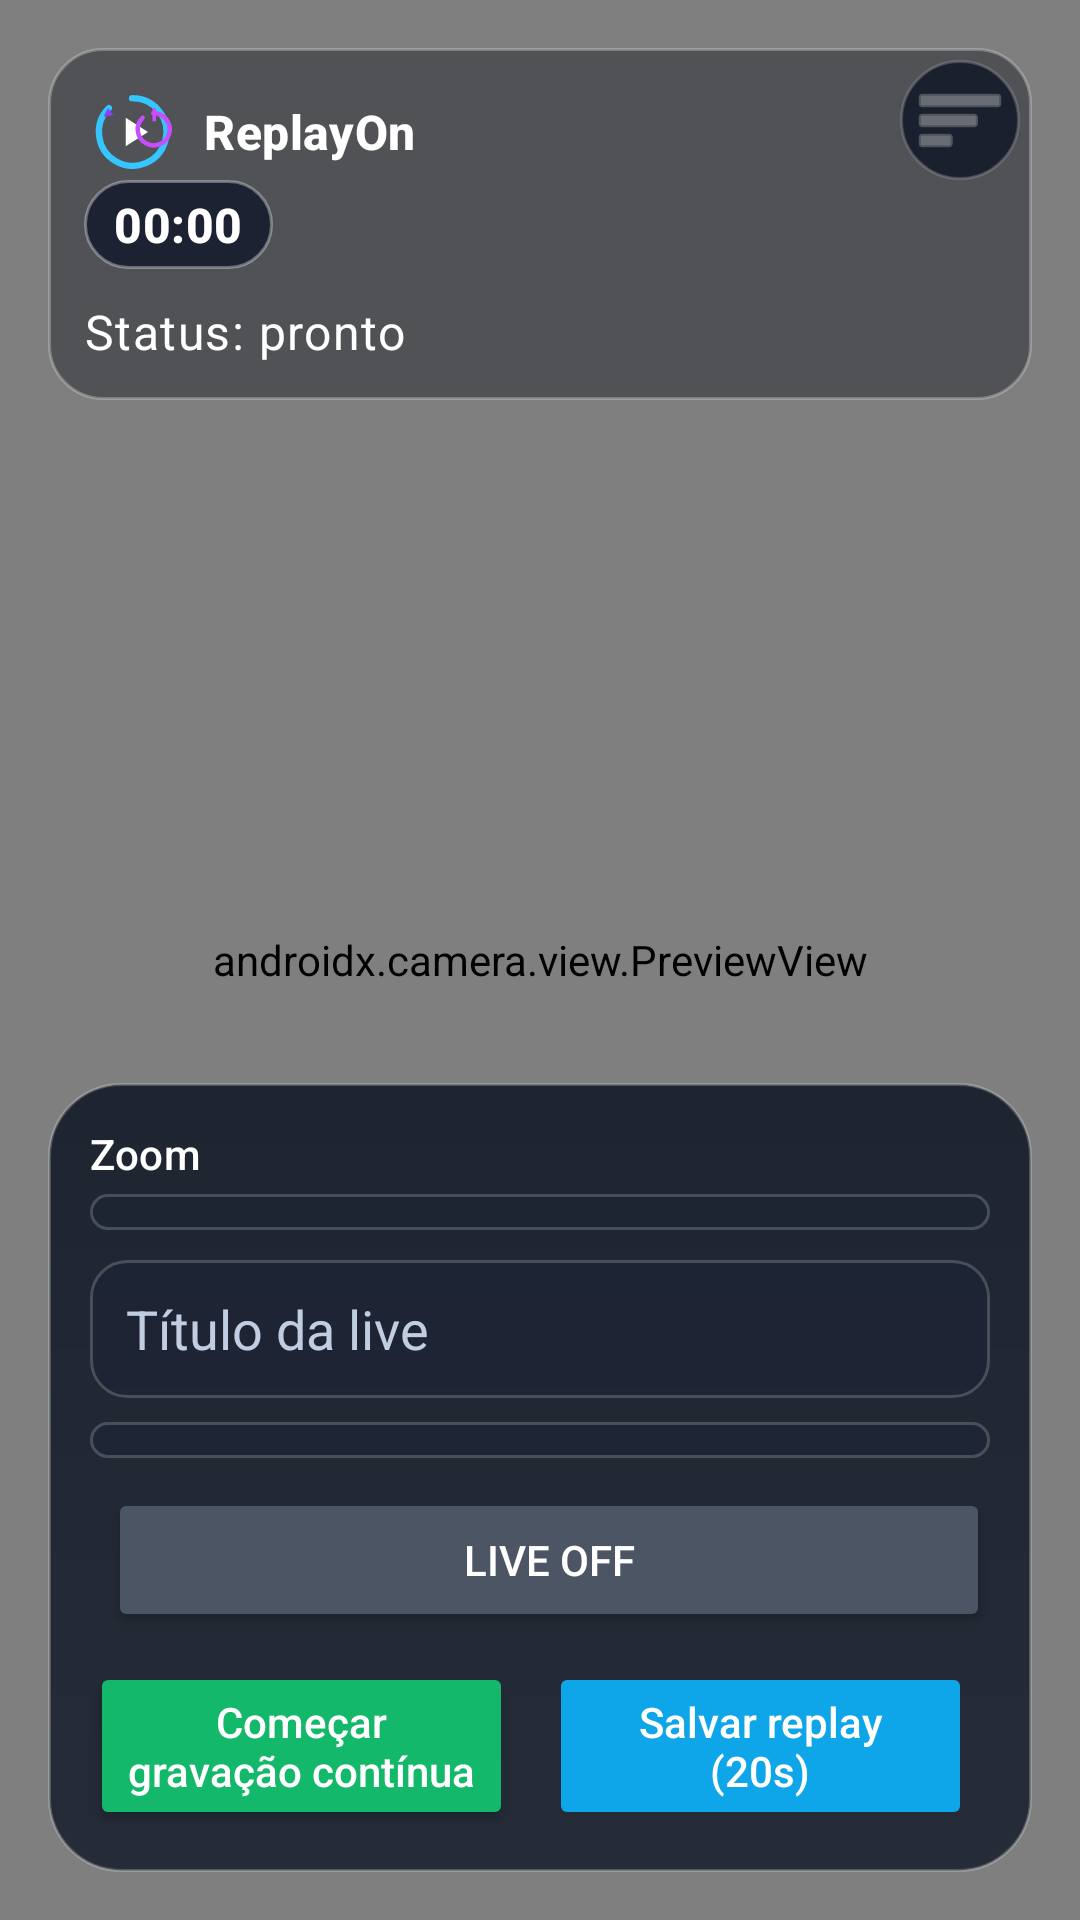

Icons on this 1080 × 1920 Android screen, each with its box as box=[x1, y1, x2, y2]:
Menu: box=[900, 60, 1020, 180]
